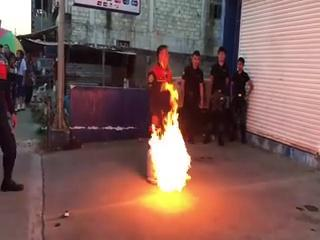Fire: (144, 85, 193, 193)
